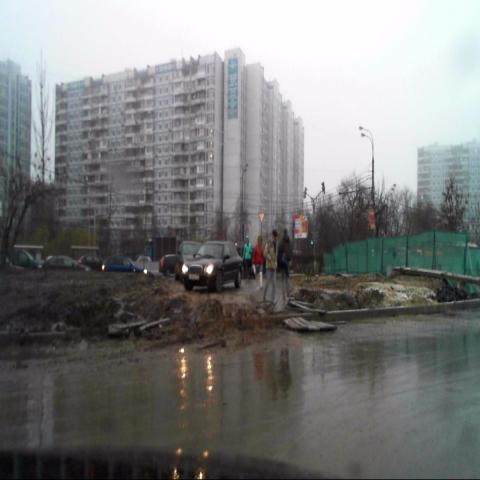2_4: (258, 211, 265, 224)
